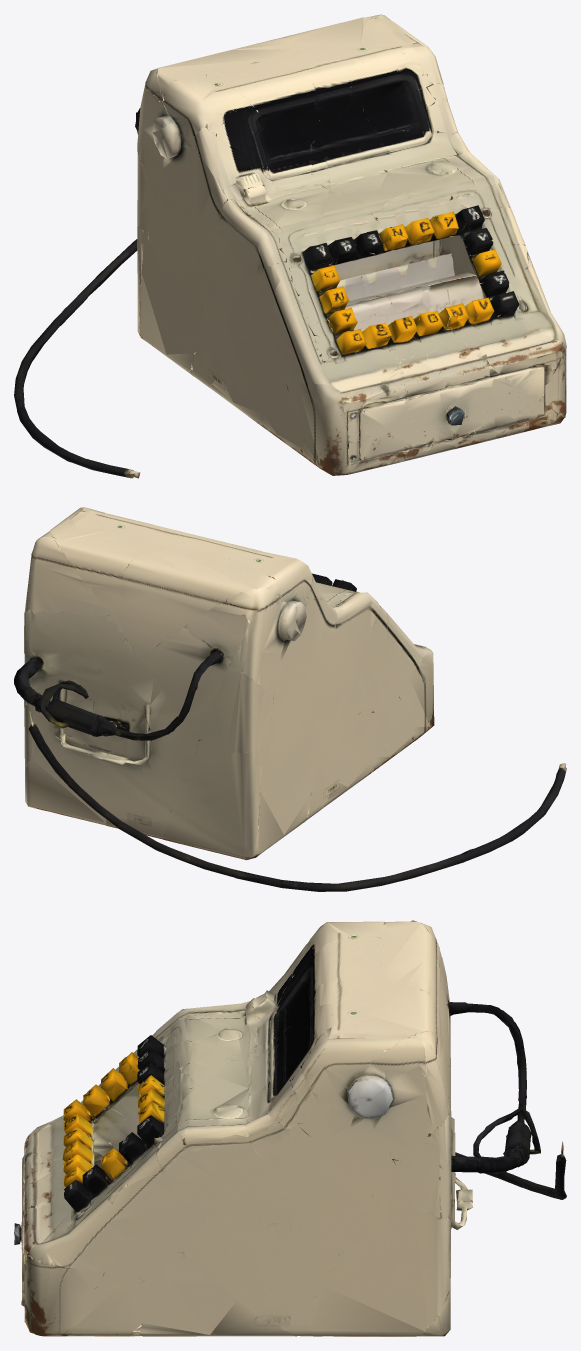
The model's file is VintageCashRegister-game.glb.
3 views of the same model, one above another, from view 1: azimuth 30°, elevation 25°; view 2: azimuth 150°, elevation 25°; view 3: azimuth 270°, elevation 25° (orthographic). The views are drawn at different scales.
Parts seen in each view (by area): view 1: Mesh_0; view 2: Mesh_0; view 3: Mesh_0.
Boxes of the visible parts, <box> form: Mesh_0: <box>14,14,566,478</box>; Mesh_0: <box>14,507,566,891</box>; Mesh_0: <box>14,920,566,1336</box>.
Size of the model in its own units: 1.88 by 1.14 by 1.9.
1 material, 1 textured.
